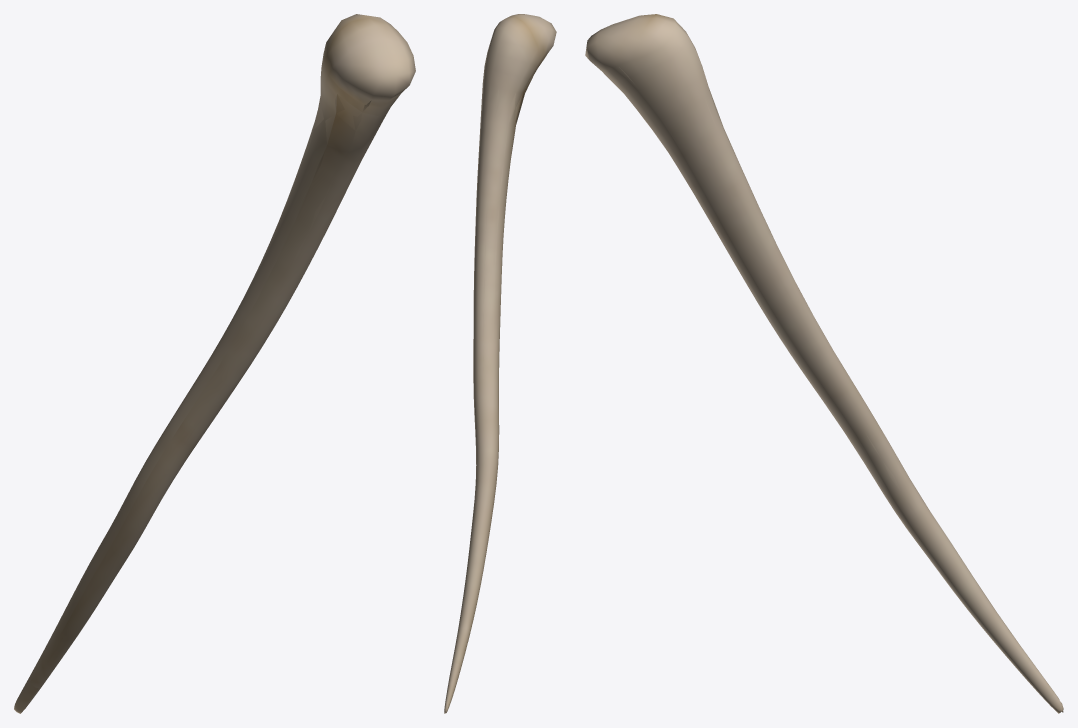
Rendered from L Fibula.fbx.
3 views of the same model, side by side, from view 1: azimuth 30°, elevation 25°; view 2: azimuth 150°, elevation 25°; view 3: azimuth 270°, elevation 25° (orthographic). The views are drawn at different scales.
Parts seen in each view (by area): view 1: L Fibula, L Fibula low; view 2: L Fibula, L Fibula low; view 3: L Fibula, L Fibula low.
Part boxes in pixels (bbox=[...]): L Fibula: bbox=[14, 14, 415, 713]; L Fibula low: bbox=[15, 38, 400, 702]; L Fibula: bbox=[444, 14, 556, 713]; L Fibula low: bbox=[445, 19, 536, 712]; L Fibula: bbox=[585, 14, 1063, 713]; L Fibula low: bbox=[603, 67, 1057, 712].
Size of the model in its own units: 4.42 by 22.47 by 13.
1 material, 1 textured.
